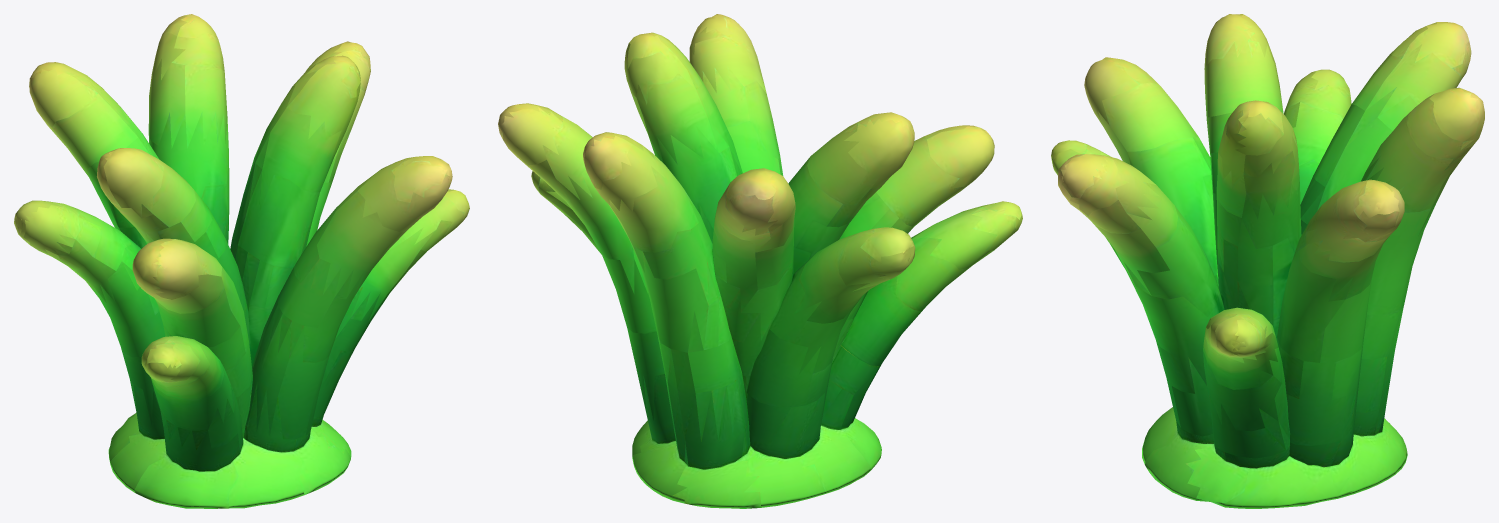
The model's file is la_hierba_alta.glb.
The picture shows the model from 3 angles, left to right: view 1: azimuth 30°, elevation 25°; view 2: azimuth 150°, elevation 25°; view 3: azimuth 270°, elevation 25°; orthographic projection. The views are drawn at different scales.
Bounding box in the file's own units: 1 × 0.9043 × 0.8672.
Materials: 1 (1 with a texture image).
